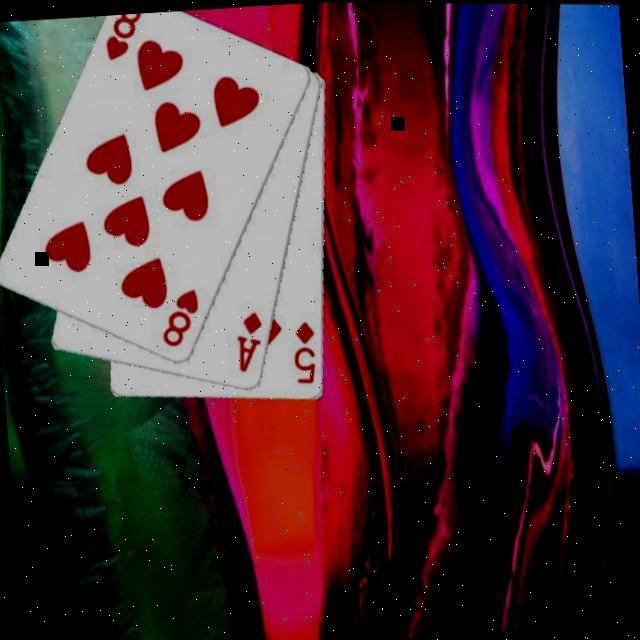5D: (286, 316, 320, 386)
8H: (155, 284, 203, 350), (100, 12, 146, 63)
AD: (230, 306, 266, 374)
